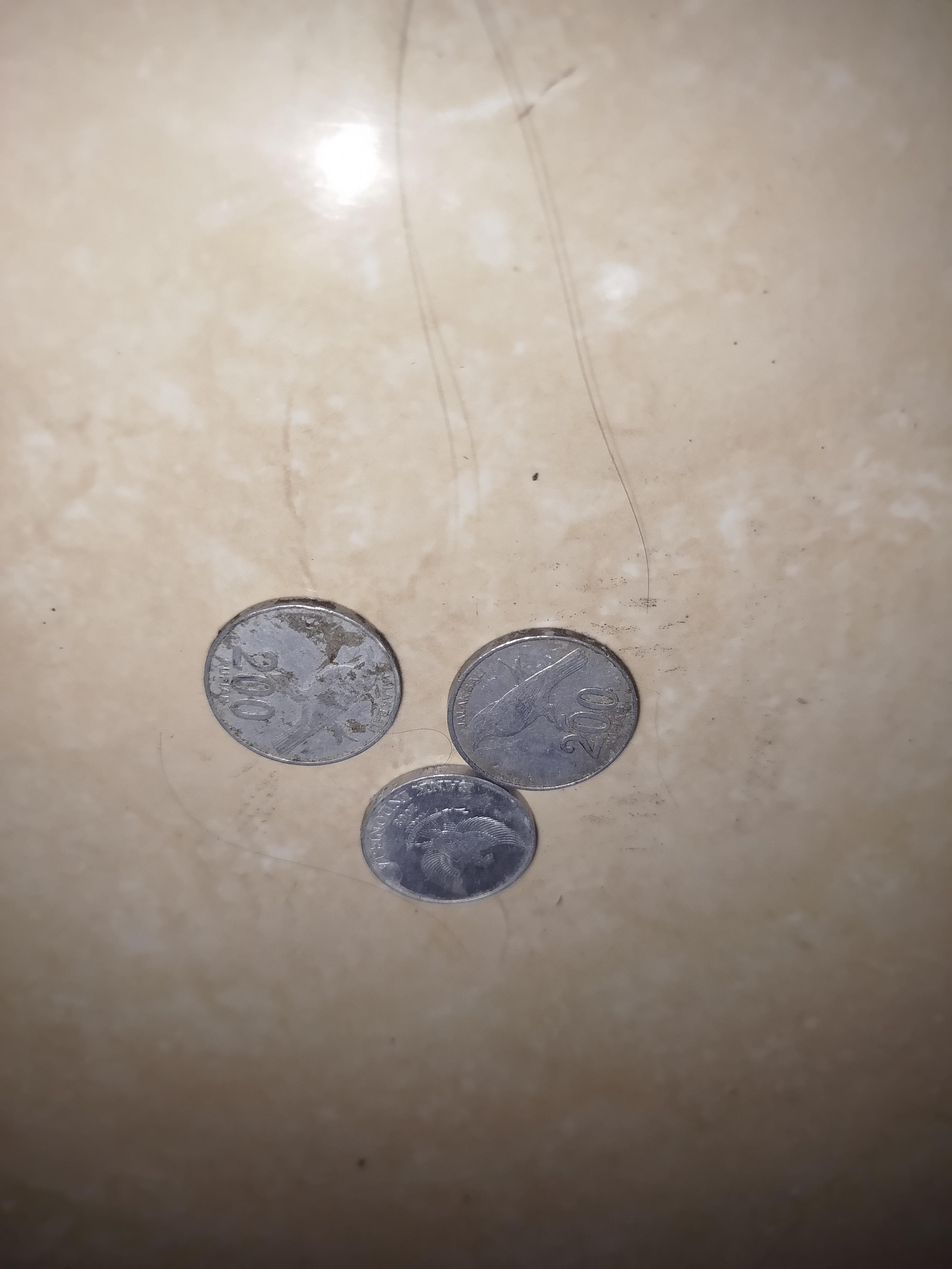coin_200_e2003: (436, 622, 648, 799), (203, 600, 408, 773), (359, 768, 545, 902)
